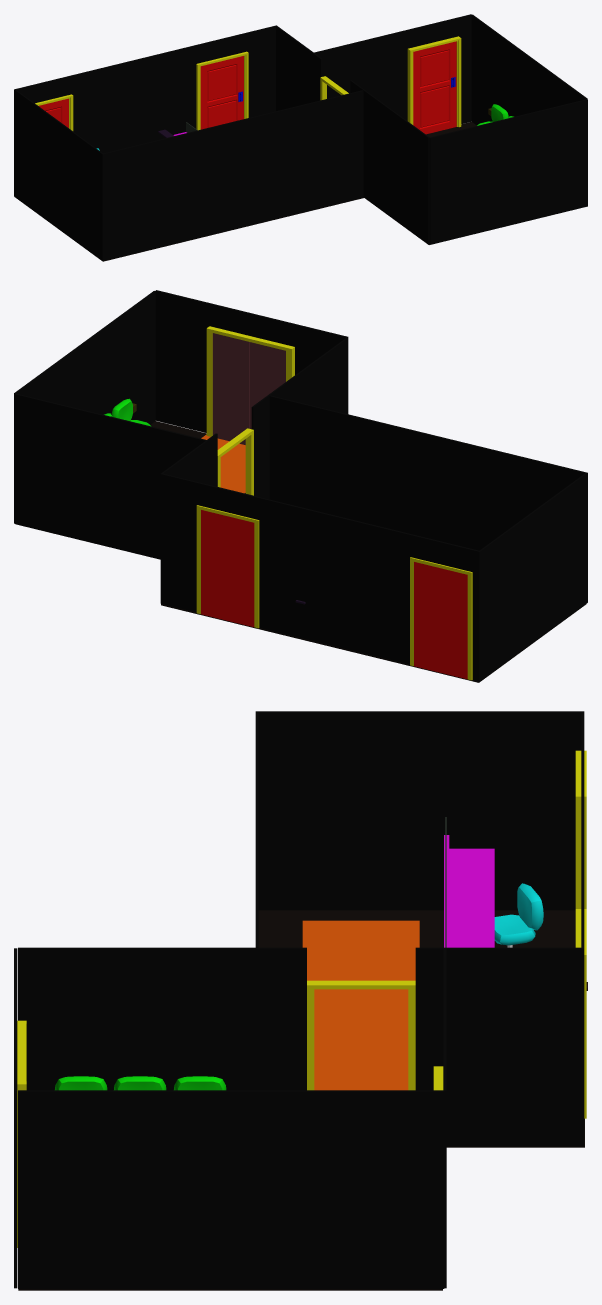
File: Therapyroomyeh.fbx
3 renders of one model, top to bottom at view 1: azimuth 30°, elevation 25°; view 2: azimuth 150°, elevation 25°; view 3: azimuth 270°, elevation 25°, orthographic. The views are drawn at different scales.
Visible parts, largest first — view 1: pCube88, pCube87; view 2: pCube88; view 3: pCube88.
Part boxes in pixels (x1=…): pCube88: x1=14, y1=14, x2=587, y2=261; pCube87: x1=407, y1=36, x2=461, y2=134; pCube88: x1=14, y1=290, x2=587, y2=682; pCube88: x1=14, y1=711, x2=587, y2=1290.
Size of the model in its own units: 2329 by 570 by 1486.
